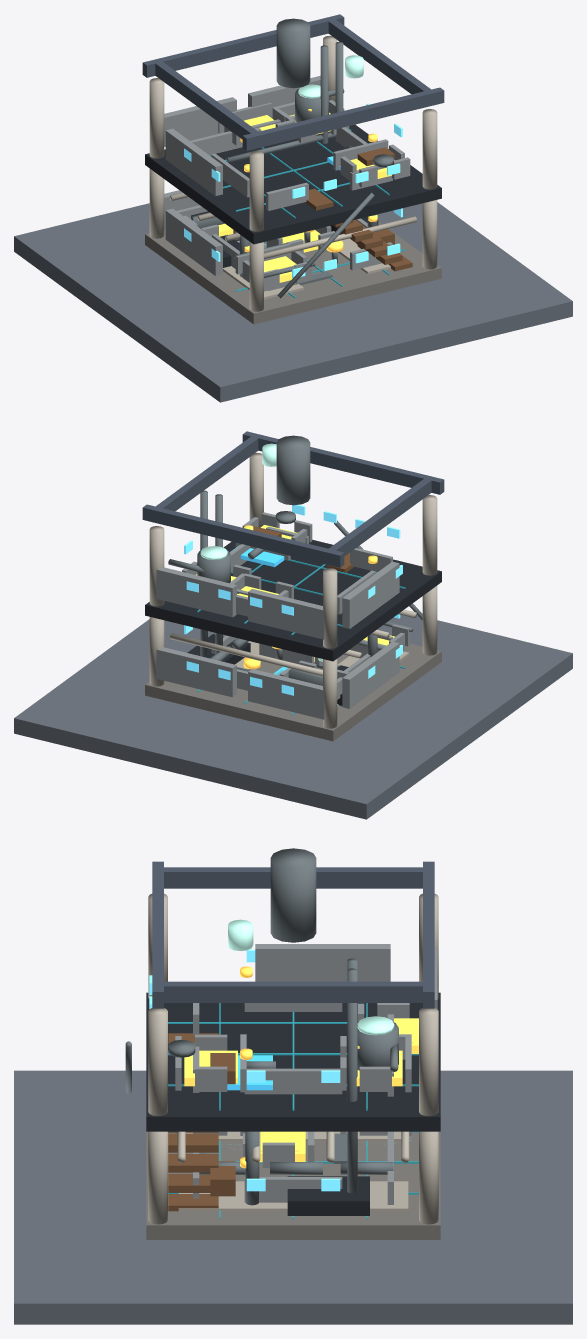
The picture shows the model from 3 angles, top to bottom: view 1: azimuth 30°, elevation 25°; view 2: azimuth 150°, elevation 25°; view 3: azimuth 270°, elevation 25°; orthographic projection. The views are drawn at different scales.
Parts seen in each view (by area): view 1: ProfileGround.006, BuildingFloor_2.003, BuildingFloor_1.003, RoofSouth.001, RoofNorth.001, BuildingVerticalLandmark.001, SideWall_2.003, SideWall_1.003, RoofWest.001, RoofEast.001, BackWall_2_-1.003, Column_2_1_-1.003 (+17 smaller); view 2: ProfileGround.006, BuildingFloor_2.003, BuildingFloor_1.003, RoofNorth.001, BackWall_1_1.003, BackWall_2_1.003, RoofSouth.001, BackWall_1_-1.003, BackWall_2_-1.003, BuildingVerticalLandmark.001, SideWall_2.003, SideWall_1.003 (+14 smaller); view 3: ProfileGround.006, BuildingFloor_2.003, BuildingFloor_1.003, RoofEast.001, SideWall_2.003, RoofWest.001, BuildingVerticalLandmark.001, SewerBranch_visual_undertide_sewer_1, SewerWalkway_visual_undertide_sewer_1, Column_2_1_-1.003, Column_2_1_1.003, FloorRooms_visual_undertide_sewer_1_East (+24 smaller).
Part boxes in pixels (left/top/right/bottom): ProfileGround.006: left=14, top=202, right=572, bottom=402; BuildingFloor_2.003: left=145, top=124, right=441, bottom=244; BuildingFloor_1.003: left=145, top=221, right=441, bottom=324; RoofSouth.001: left=242, top=87, right=444, bottom=150; RoofNorth.001: left=142, top=14, right=344, bottom=77; BuildingVerticalLandmark.001: left=276, top=18, right=310, bottom=88; SideWall_2.003: left=165, top=128, right=222, bottom=195; SideWall_1.003: left=165, top=208, right=222, bottom=275; RoofWest.001: left=155, top=61, right=258, bottom=139; RoofEast.001: left=328, top=19, right=431, bottom=94; BackWall_2_-1.003: left=164, top=97, right=236, bottom=146; Column_2_1_-1.003: left=422, top=109, right=437, bottom=189; ProfileGround.006: left=14, top=614, right=572, bottom=819; BuildingFloor_2.003: left=145, top=539, right=441, bottom=661; BuildingFloor_1.003: left=145, top=634, right=441, bottom=741; RoofNorth.001: left=142, top=504, right=344, bottom=567; BackWall_1_1.003: left=156, top=647, right=236, bottom=697; BackWall_2_1.003: left=156, top=567, right=236, bottom=617; RoofSouth.001: left=242, top=431, right=444, bottom=494; BackWall_1_-1.003: left=248, top=669, right=324, bottom=719; BackWall_2_-1.003: left=248, top=589, right=324, bottom=639; BuildingVerticalLandmark.001: left=276, top=435, right=310, bottom=505; SideWall_2.003: left=342, top=561, right=399, bottom=628; SideWall_1.003: left=342, top=641, right=399, bottom=708; ProfileGround.006: left=14, top=1070, right=572, bottom=1324; BuildingFloor_2.003: left=146, top=992, right=440, bottom=1131; BuildingFloor_1.003: left=146, top=1131, right=440, bottom=1239; RoofEast.001: left=161, top=981, right=425, bottom=1002; SideWall_2.003: left=255, top=944, right=390, bottom=981; RoofWest.001: left=161, top=867, right=424, bottom=888; BuildingVerticalLandmark.001: left=270, top=848, right=316, bottom=942; SewerBranch_visual_undertide_sewer_1: left=287, top=1176, right=369, bottom=1215; SewerWalkway_visual_undertide_sewer_1: left=178, top=1181, right=408, bottom=1211; Column_2_1_-1.003: left=148, top=1008, right=167, bottom=1116; Column_2_1_1.003: left=419, top=1008, right=438, bottom=1116; FloorRooms_visual_undertide_sewer_1_East: left=244, top=1068, right=342, bottom=1094.
Size of the model in its own units: 4.8 by 3.36 by 4.86.
